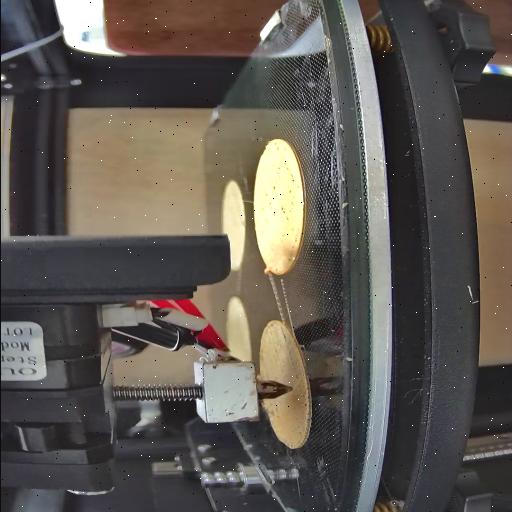under_extrusion: (255, 146, 297, 221), (278, 399, 312, 448), (270, 323, 296, 371), (272, 242, 296, 266)
